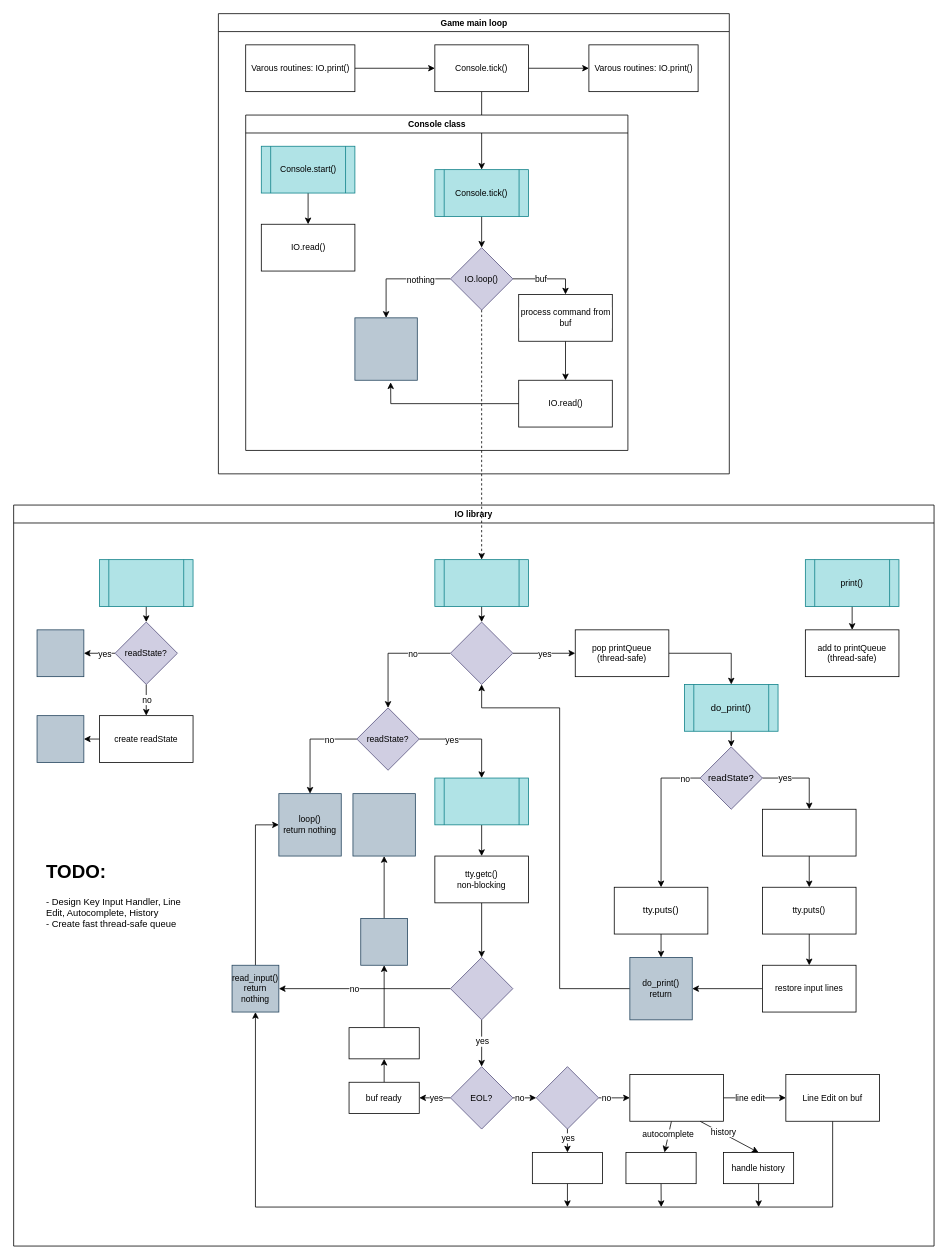
The diagram is 948 pixels wide and 1260 high, and some of its shapes have lost their labels. Each missing label, with the centre of its shape:
"clear input lines" belongs at (809,832).
"Console.tick() return" belongs at (385,348).
"delete readState" belongs at (383,1043).
"handle autocomplete" belongs at (660,1168).
"handle resize" belongs at (567,1168).
"has input?" belongs at (481,988).
"Key Input Handler" belongs at (676,1097).
"loop()" belongs at (481,582).
"loop() return buf" belongs at (383,824).
"printQueue?" belongs at (481,652).
"read()" belongs at (146,582).
"read() return no" belongs at (60,653).
"read() return yes" belongs at (60,738).
"read_input()" belongs at (481,801).
"read_input() return buf" belongs at (384,941).
"resize?" belongs at (567,1097).
